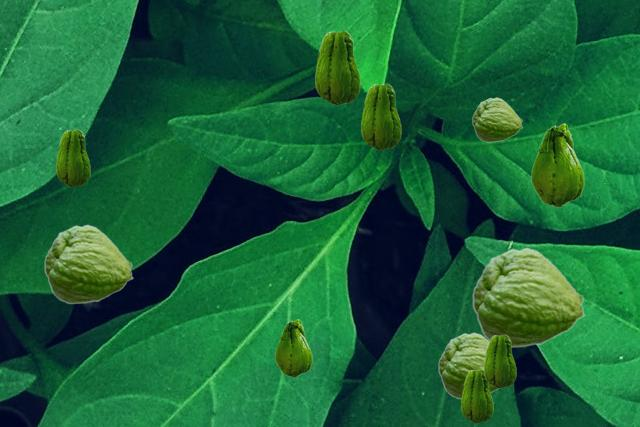sayote: (472, 247, 585, 347), (44, 224, 133, 303), (531, 123, 583, 206), (438, 332, 501, 398), (315, 30, 359, 104), (361, 83, 400, 149), (472, 97, 522, 141), (275, 319, 311, 376), (56, 129, 89, 186), (461, 369, 492, 422), (484, 334, 515, 387)
